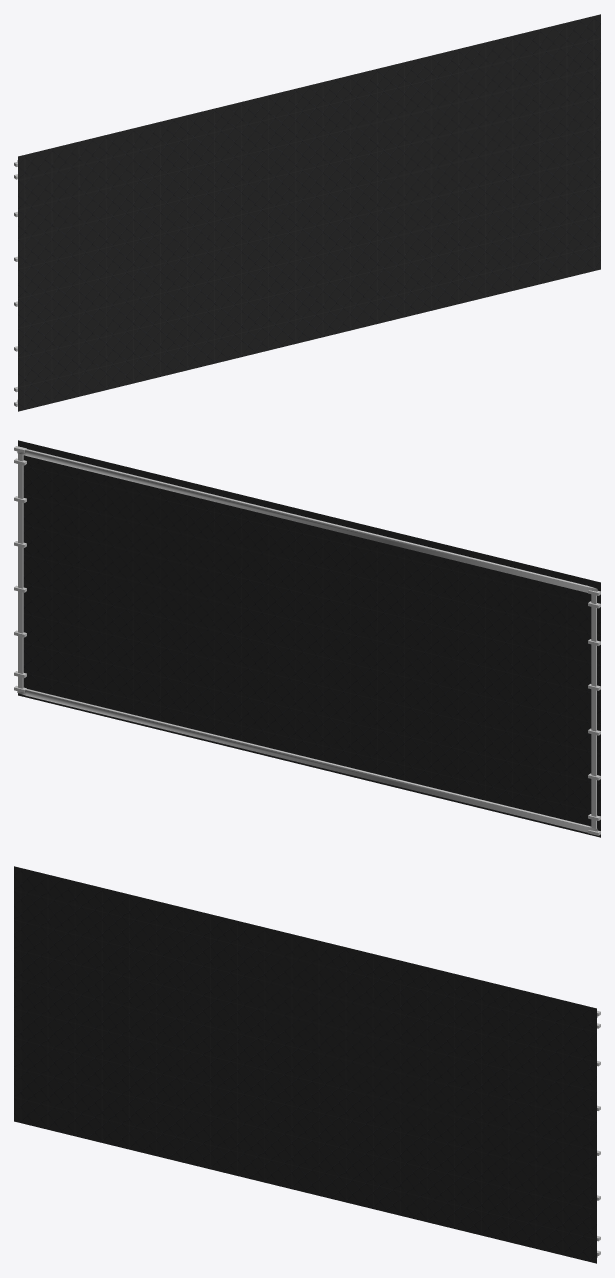
File: Net_LOD1.fbx
The picture shows the model from 3 angles, top to bottom: view 1: azimuth 30°, elevation 25°; view 2: azimuth 150°, elevation 25°; view 3: azimuth 330°, elevation 25°; orthographic projection.
Parts seen in each view (by area): view 1: polySurface147; view 2: polySurface147; view 3: polySurface147.
Boxes of the visible parts, bbox=[...] form: polySurface147: bbox=[14, 14, 600, 411]; polySurface147: bbox=[14, 440, 600, 837]; polySurface147: bbox=[14, 866, 600, 1263].
Bounding box in the file's own units: 4.89 × 2.04 × 0.0461.
